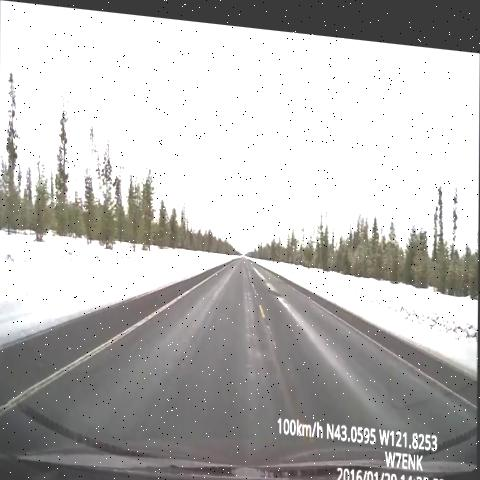pothole: (267, 275, 292, 302)
